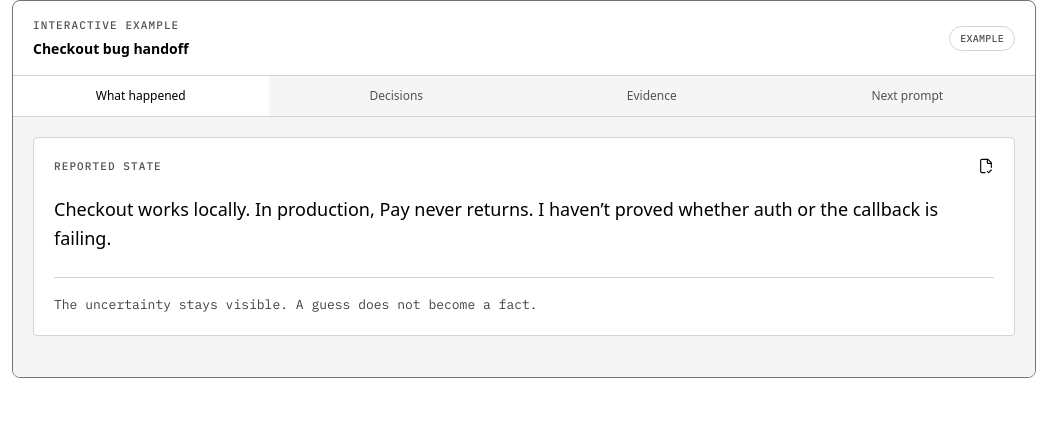
Scenario: HandoffPreview › reveals each part of the handoff without autoplay
Expected: the text "Example" is shown, [949,26,1015,51]
Expected: the text "Checkout works locally" is shown, [54,197,938,250]
Click the tab "Decisions" at (396, 96), box [268,76,524,116]
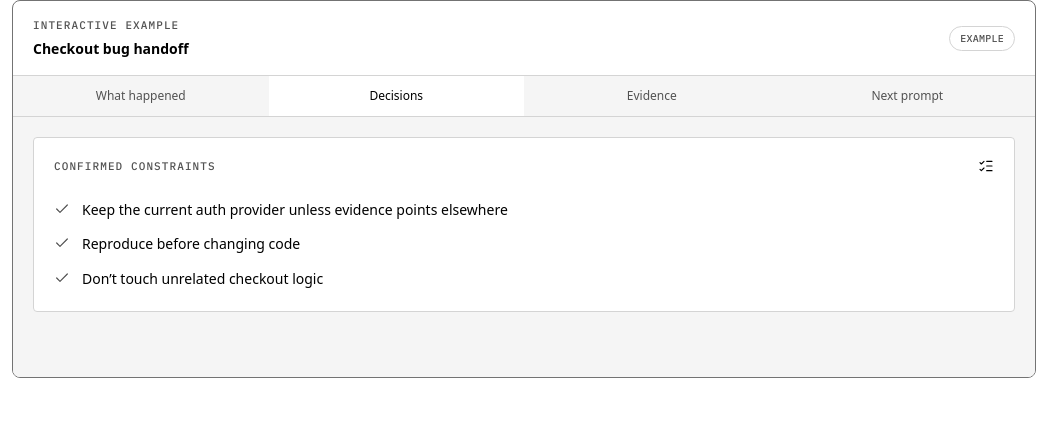
Expected: the list item "Reproduce before changing code" is shown, [54,234,300,253]
Click the tab "Evidence" at (652, 96), box [524,76,780,116]
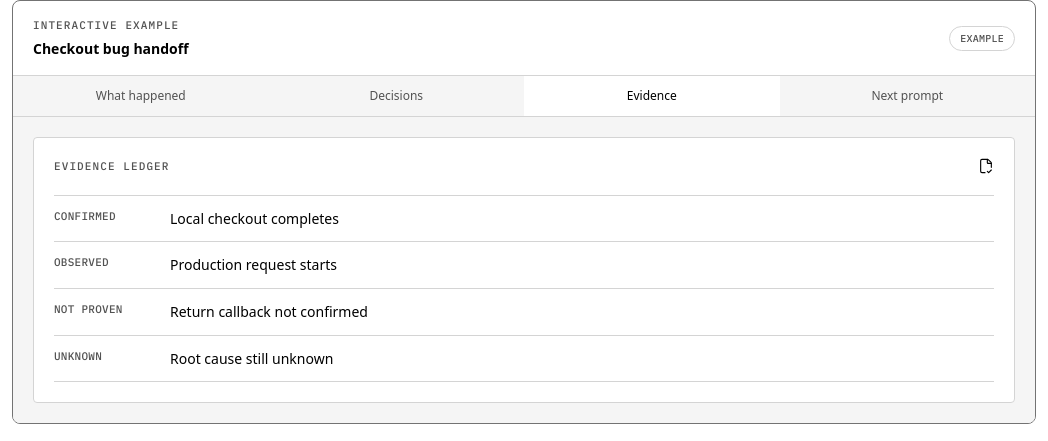
Expected: the text "Return callback not confirmed" is shown, [170,302,368,321]
Click the tab "Next prompt" at (907, 96), box [780,76,1035,116]
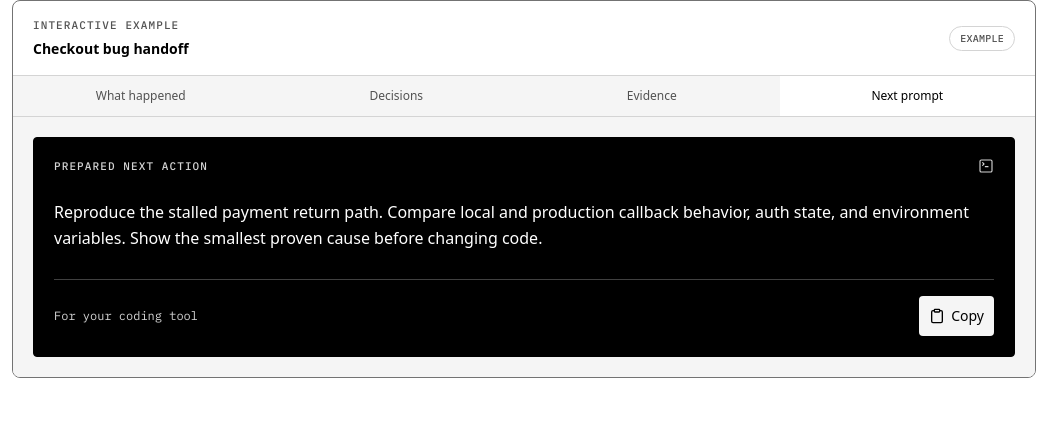
Expected: the text "Reproduce the stalled payment return path" is shown, [54,201,969,249]
